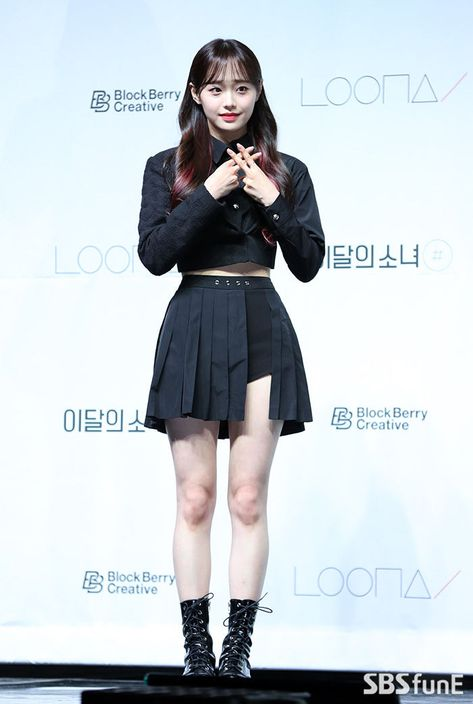person: (121, 29, 319, 685)
